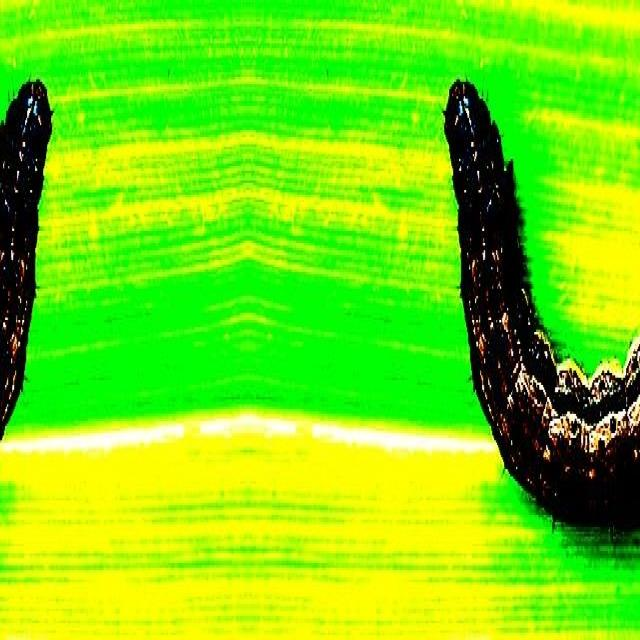Armyworm: (421, 17, 640, 565), (1, 30, 51, 469)
